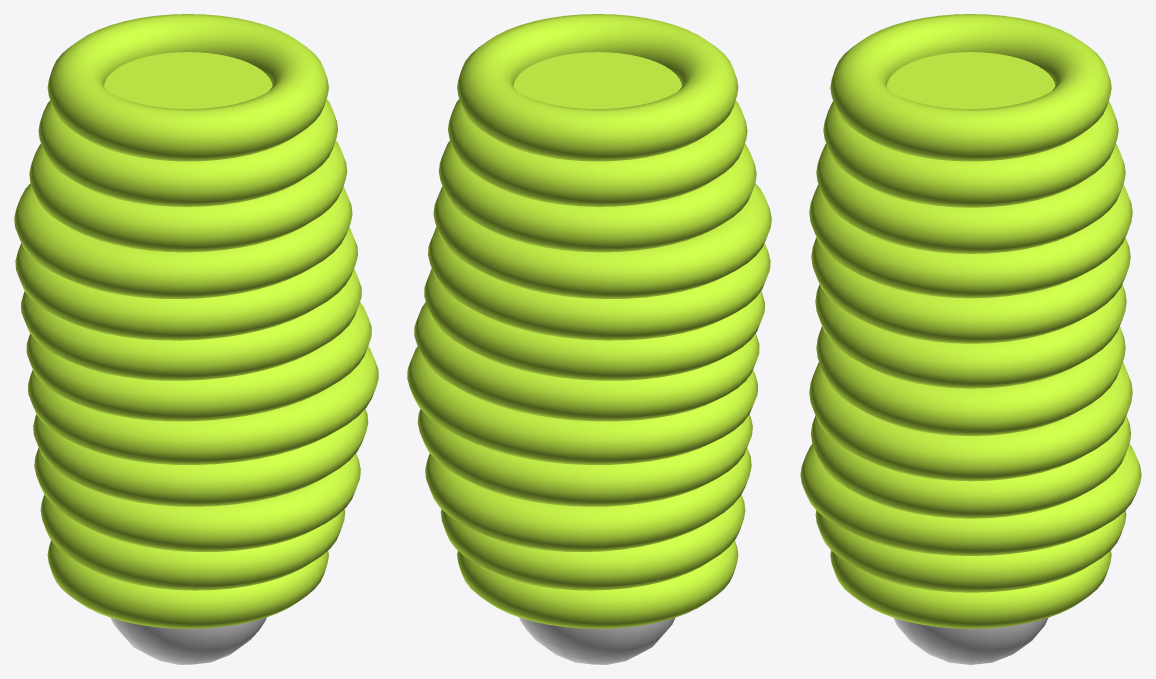
Rendered from moduleR.gltf.
3 views of the same model, side by side, from view 1: azimuth 30°, elevation 25°; view 2: azimuth 150°, elevation 25°; view 3: azimuth 270°, elevation 25° (orthographic).
Visible parts, largest first — view 1: Torus, u_head, joint; view 2: Torus, u_head, joint; view 3: Torus, u_head, joint.
Part boxes in pixels (x1,y1,x2,y2): Torus: (14,14,378,628); u_head: (104,52,272,108); joint: (111,617,266,664); Torus: (407,14,771,628); u_head: (513,52,681,108); joint: (519,617,674,664); Torus: (800,14,1141,628); u_head: (886,52,1055,108); joint: (893,617,1048,664).
Size of the model in its own units: 2.09 by 3.65 by 1.9.
